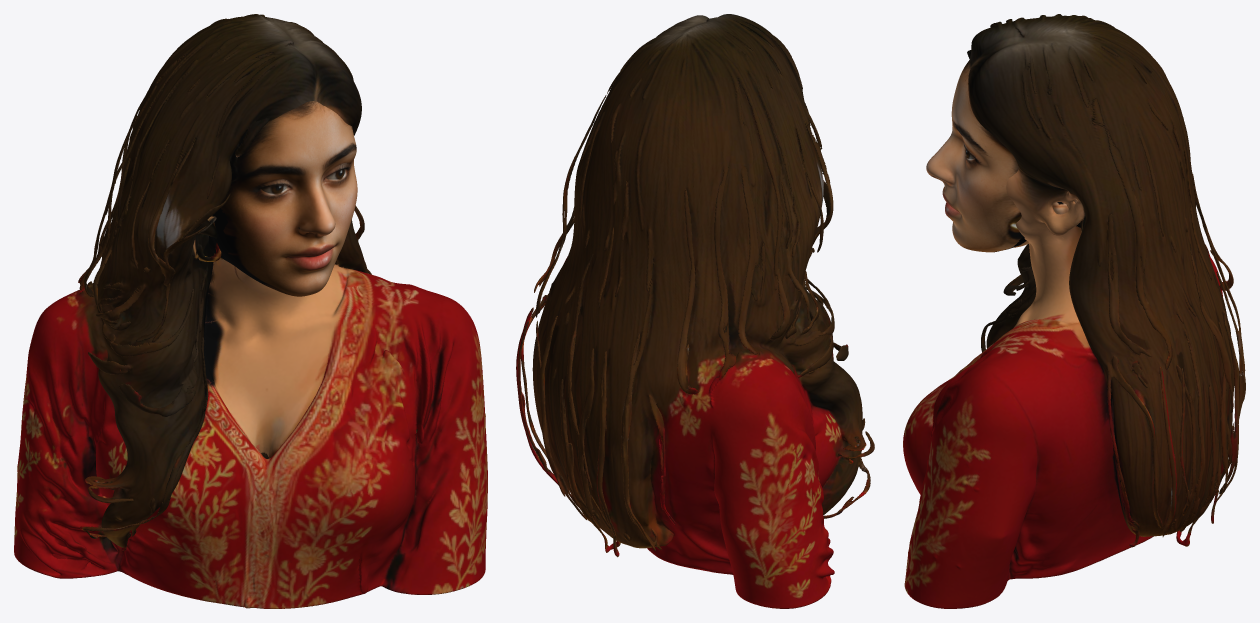
The model's file is indian_girl_sculpture.glb.
3 views of the same model, side by side, from view 1: azimuth 30°, elevation 25°; view 2: azimuth 150°, elevation 25°; view 3: azimuth 270°, elevation 25° (orthographic). The views are drawn at different scales.
Parts seen in each view (by area): view 1: tripo_node_6be57822-2473-4e30-9098-6f76dbab1c3b_0; view 2: tripo_node_6be57822-2473-4e30-9098-6f76dbab1c3b_0; view 3: tripo_node_6be57822-2473-4e30-9098-6f76dbab1c3b_0.
Boxes of the visible parts, x1,y1,x2,y2 form: tripo_node_6be57822-2473-4e30-9098-6f76dbab1c3b_0: [14, 14, 487, 608]; tripo_node_6be57822-2473-4e30-9098-6f76dbab1c3b_0: [516, 14, 874, 608]; tripo_node_6be57822-2473-4e30-9098-6f76dbab1c3b_0: [903, 14, 1245, 608].
Size of the model in its own units: 3.18 by 4.44 by 2.71.
2 materials, 2 textured.
